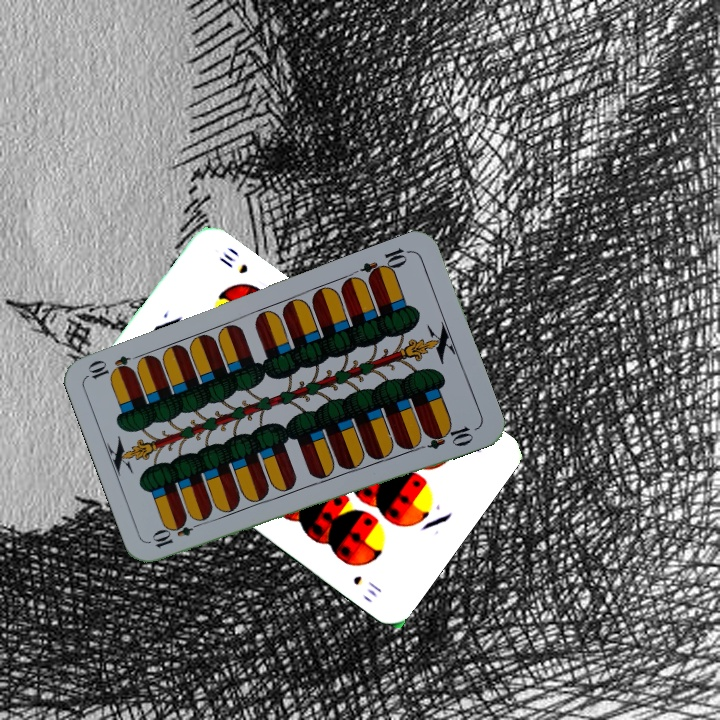E10: (357, 243, 414, 284), (148, 516, 206, 551)
